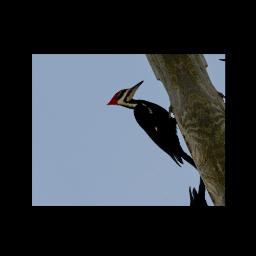Woodpecker: (98, 75, 197, 179)
